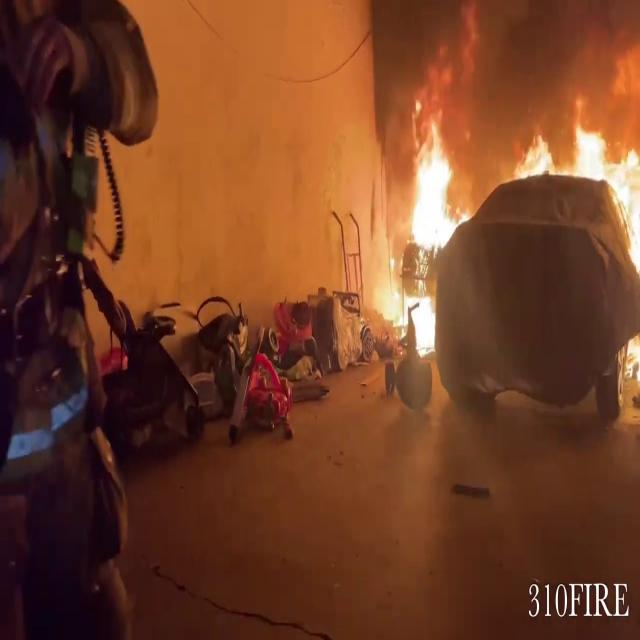Fire: (371, 106, 464, 356), (526, 89, 640, 243)
